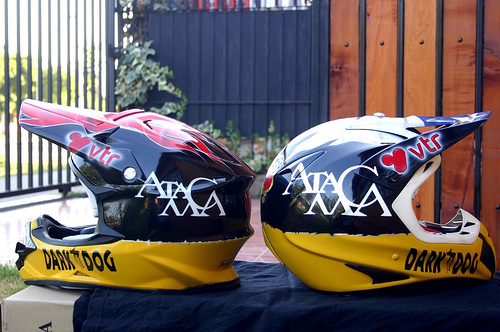helmet: (36, 95, 240, 289), (261, 113, 472, 278)
